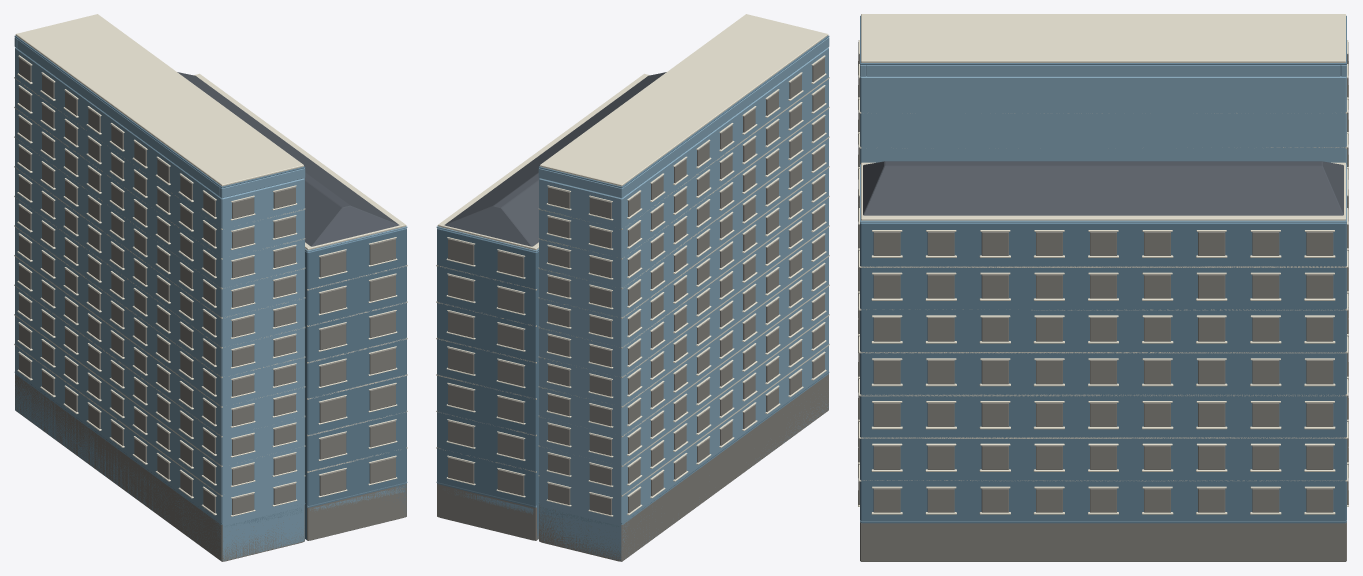
Rendered from VG_Bld_Commercial_04.fbx.
3 views of the same model, side by side, from view 1: azimuth 30°, elevation 25°; view 2: azimuth 150°, elevation 25°; view 3: azimuth 270°, elevation 25° (orthographic). The views are drawn at different scales.
Parts seen in each view (by area): view 1: VG_Bld_Commercial_04_Body; view 2: VG_Bld_Commercial_04_Body; view 3: VG_Bld_Commercial_04_Body.
Part boxes in pixels (bbox=[...]): VG_Bld_Commercial_04_Body: bbox=[14, 14, 407, 561]; VG_Bld_Commercial_04_Body: bbox=[436, 14, 829, 561]; VG_Bld_Commercial_04_Body: bbox=[858, 14, 1348, 561].
Bounding box in the file's own units: 21 × 39.79 × 40.
